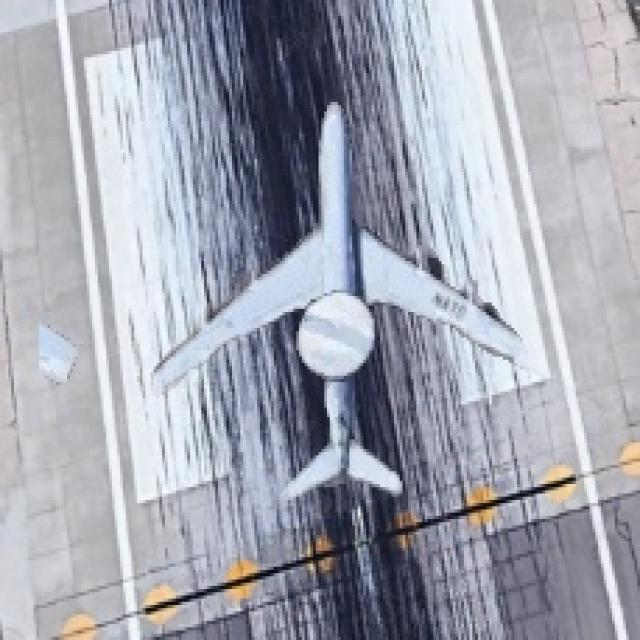E-3_TopDown: (148, 96, 528, 503)
